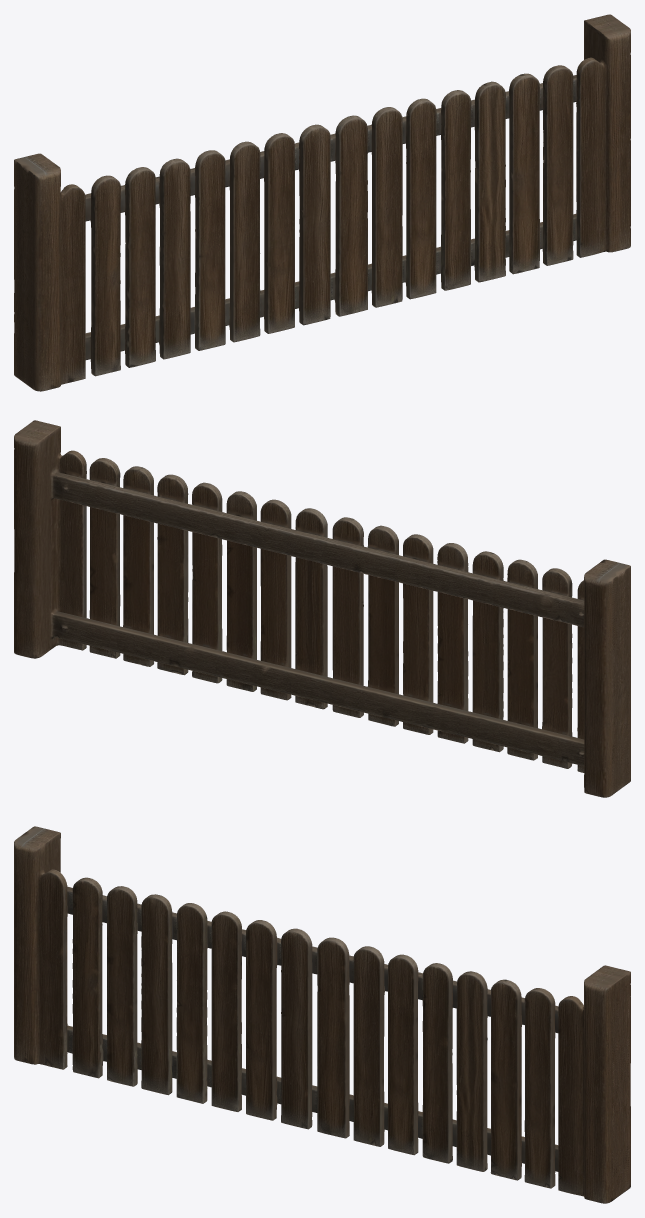
The model's file is prop10.glb.
3 renders of one model, top to bottom at view 1: azimuth 30°, elevation 25°; view 2: azimuth 150°, elevation 25°; view 3: azimuth 330°, elevation 25°, orthographic.
Parts seen in each view (by area): view 1: mesh_node; view 2: mesh_node; view 3: mesh_node.
Boxes of the visible parts, box(x1,y1,x2,y2) form: mesh_node: box(14, 14, 630, 391); mesh_node: box(14, 420, 630, 797); mesh_node: box(14, 826, 630, 1203).
Bounding box in the file's own units: 1.9 × 0.6593 × 0.1462.
Materials: 1 (1 with a texture image).
